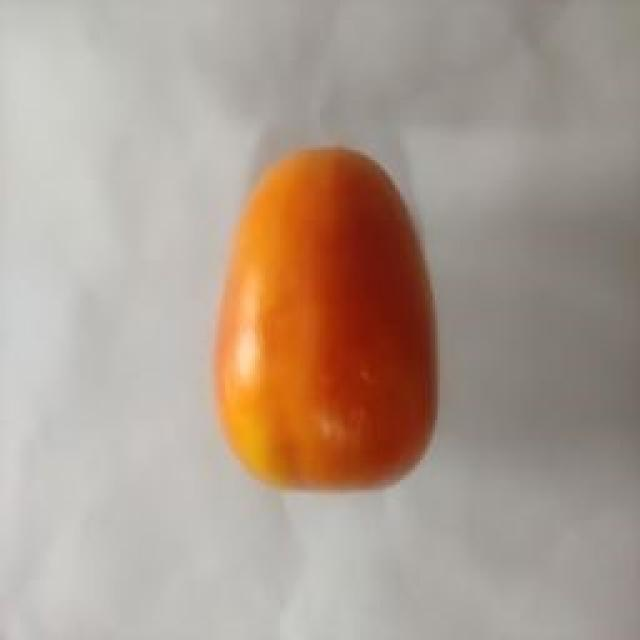unripe: (243, 171, 452, 477)
